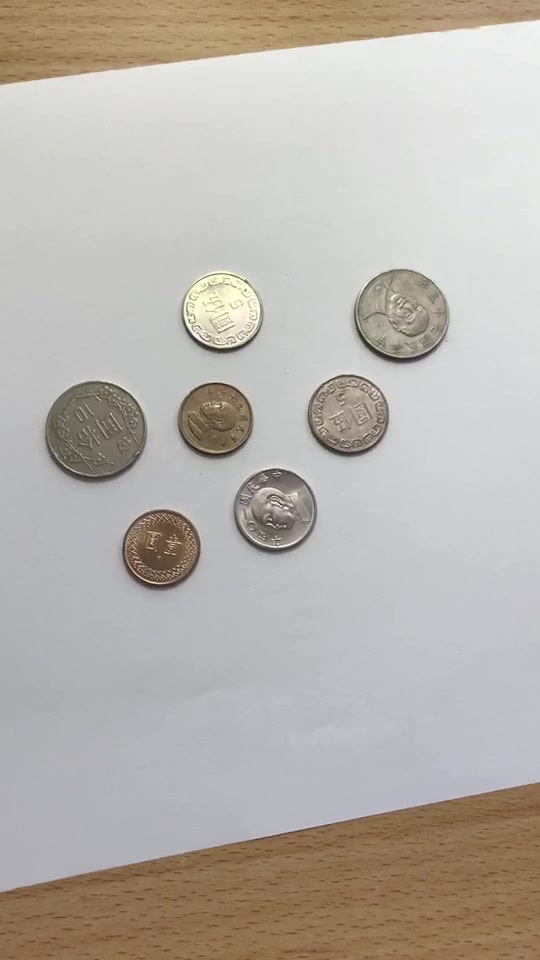1 dallar: (115, 503, 205, 594), (170, 375, 260, 466)
10 dallar: (42, 375, 148, 486), (352, 256, 458, 367)
5 dallar: (177, 263, 266, 358), (302, 369, 391, 464), (229, 463, 318, 558)
